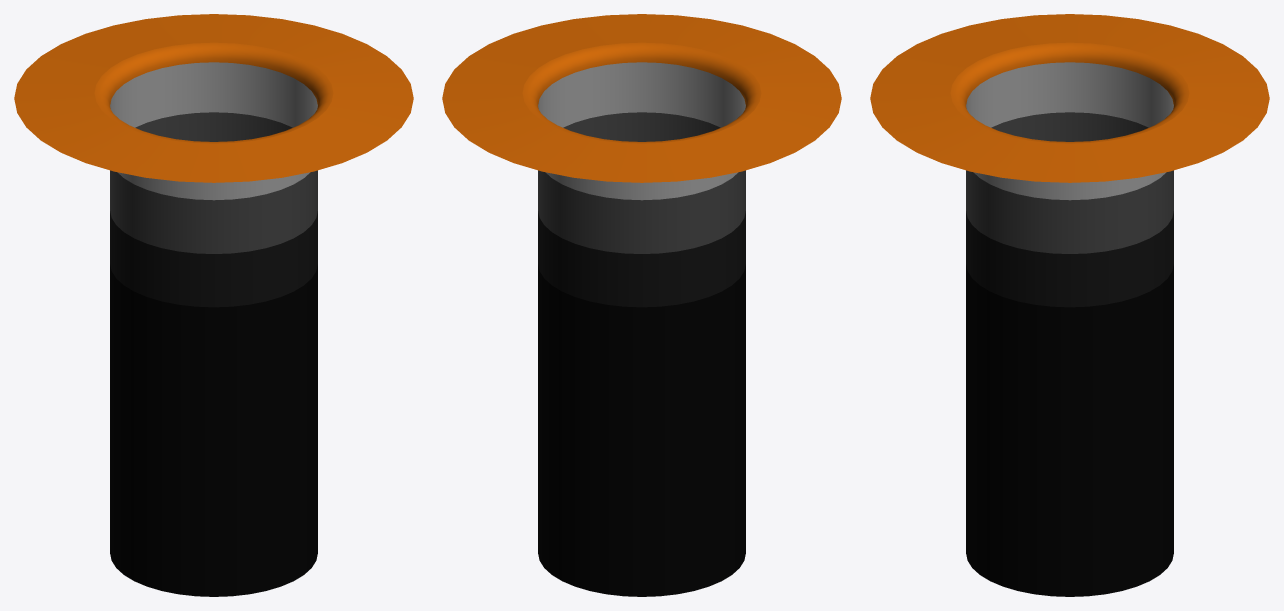
The model's file is HoleCover.fbx.
3 views of the same model, side by side, from view 1: azimuth 30°, elevation 25°; view 2: azimuth 150°, elevation 25°; view 3: azimuth 270°, elevation 25° (orthographic).
Parts seen in each view (by area): view 1: Disc_1; view 2: Disc_1; view 3: Disc_1.
Part boxes in pixels (bbox=[...]): Disc_1: bbox=[14, 14, 413, 596]; Disc_1: bbox=[442, 14, 841, 596]; Disc_1: bbox=[870, 14, 1269, 596].
Bounding box in the file's own units: 183 × 232 × 183.
